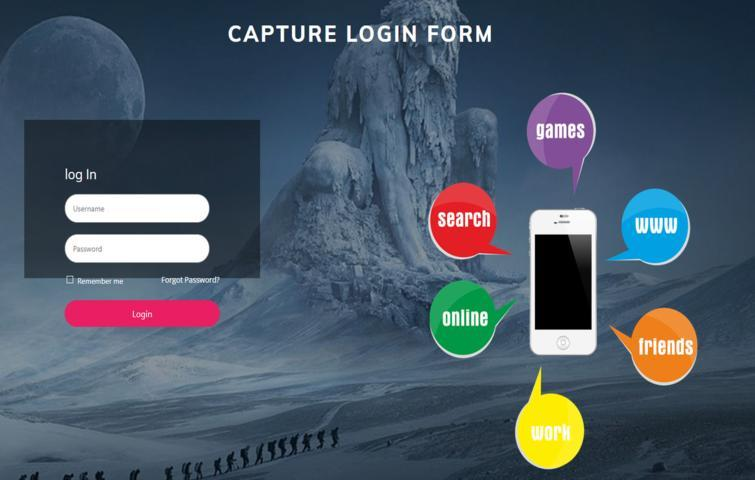button: (66, 301, 221, 329)
checkbox: (66, 274, 76, 287)
input: (67, 194, 212, 227), (66, 236, 211, 264)
label: (78, 277, 128, 288)
